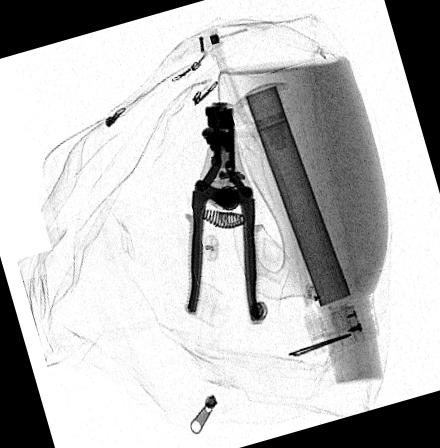Pliers: (186, 100, 263, 326)
